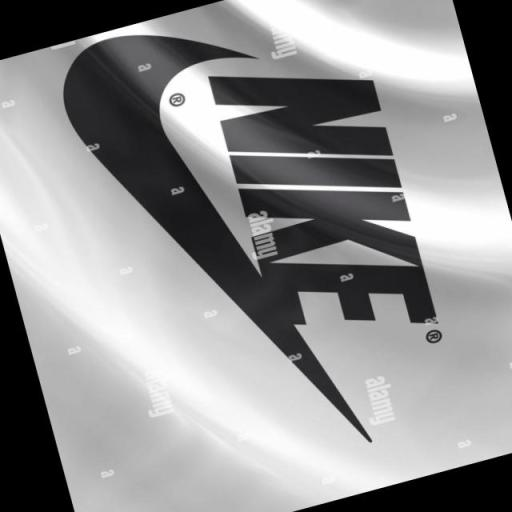Nike: (47, 3, 334, 444), (201, 32, 444, 374)
